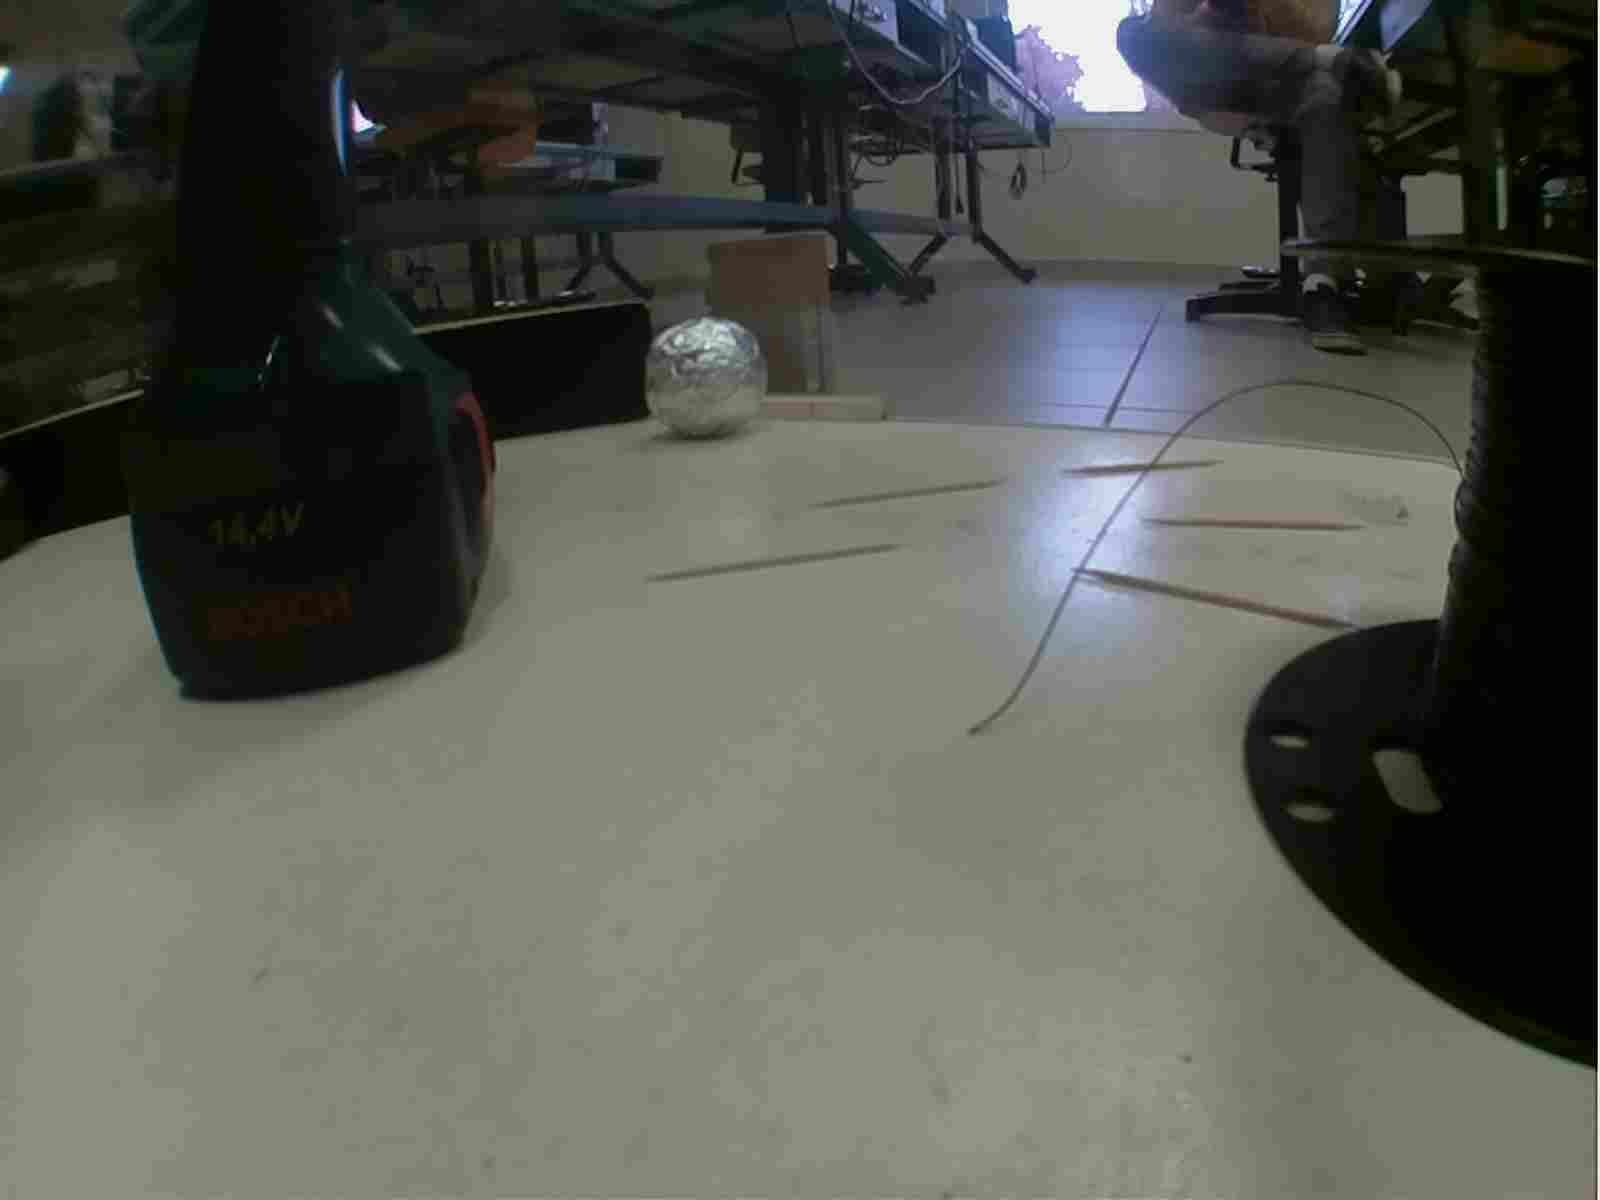bianca: (637, 316, 769, 440)
